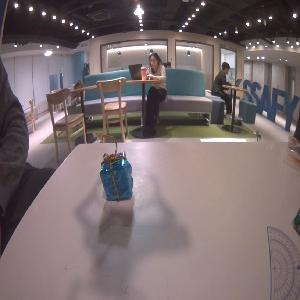box: (98, 155, 136, 202)
